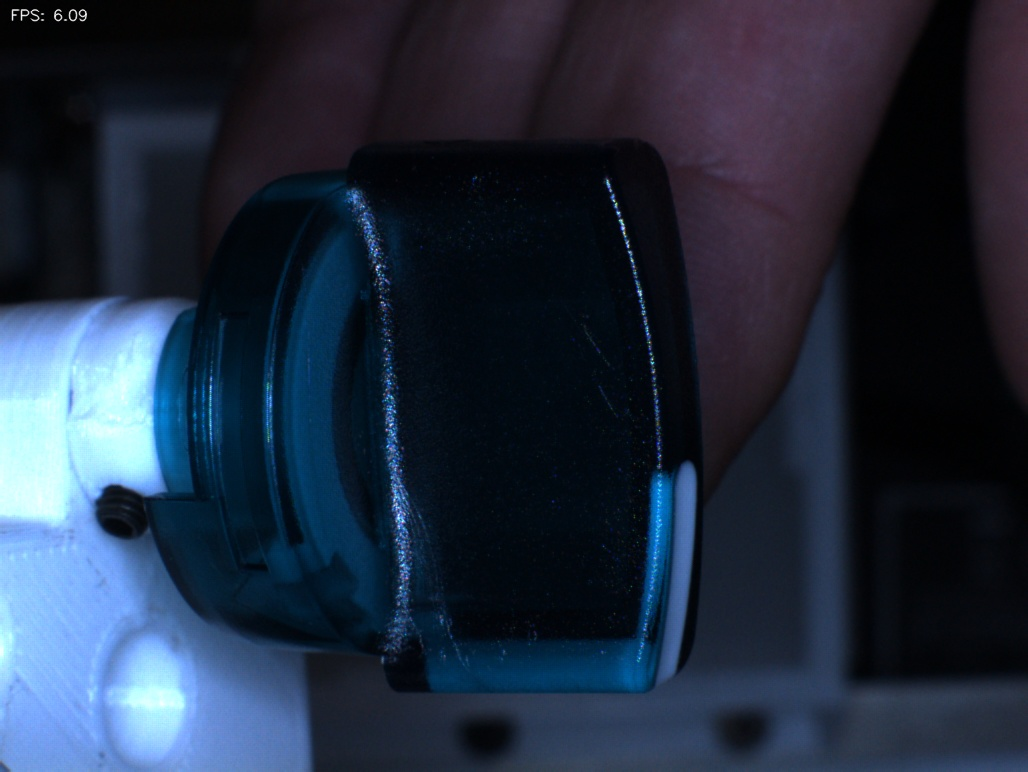Givrage: (382, 488, 501, 682), (564, 304, 635, 445)
